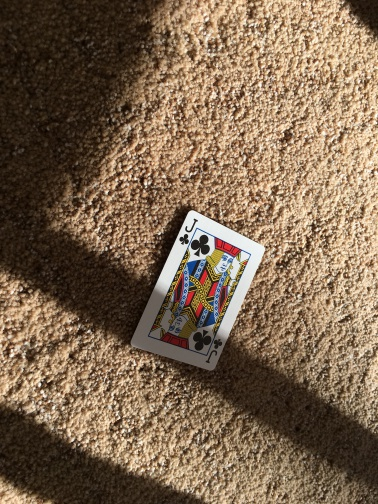jack: (129, 209, 264, 371)
